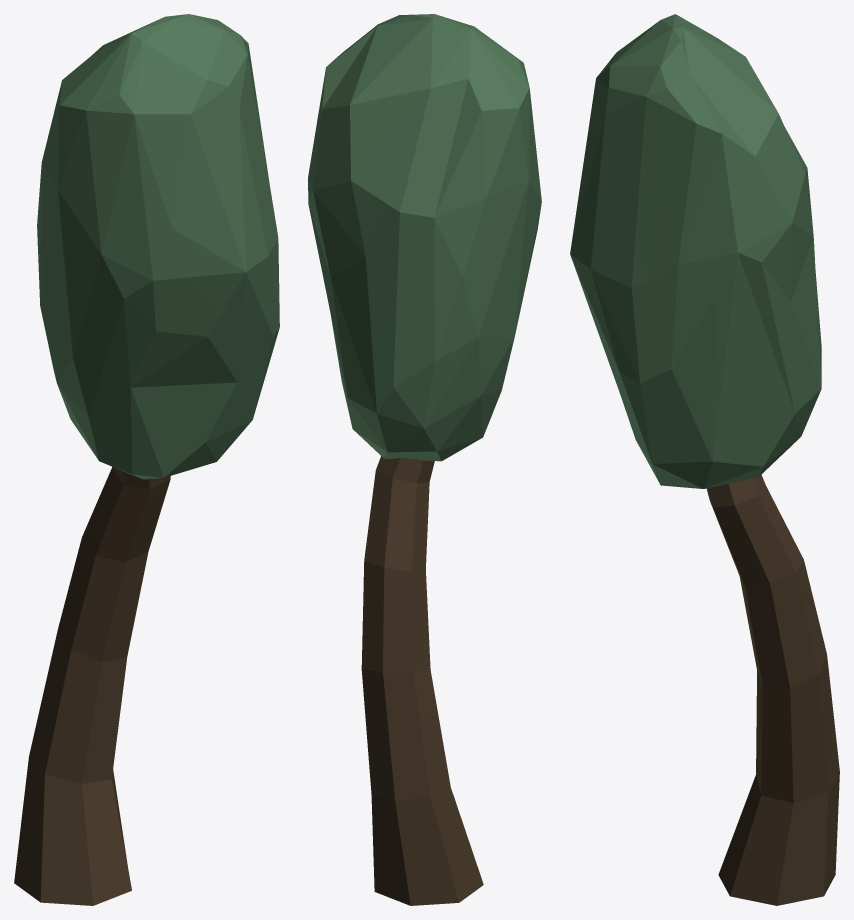
File: Tree6.glb
3 renders of one model, left to right at view 1: azimuth 30°, elevation 25°; view 2: azimuth 150°, elevation 25°; view 3: azimuth 270°, elevation 25°, orthographic. The views are drawn at different scales.
Parts seen in each view (by area): view 1: Tree_2; view 2: Tree_2; view 3: Tree_2.
Boxes of the visible parts, bbox=[...] form: Tree_2: bbox=[14, 14, 279, 905]; Tree_2: bbox=[308, 14, 541, 905]; Tree_2: bbox=[570, 14, 839, 905].
Bounding box in the file's own units: 0.8068 × 3.23 × 0.905.
Materials: 1 (1 with a texture image).
